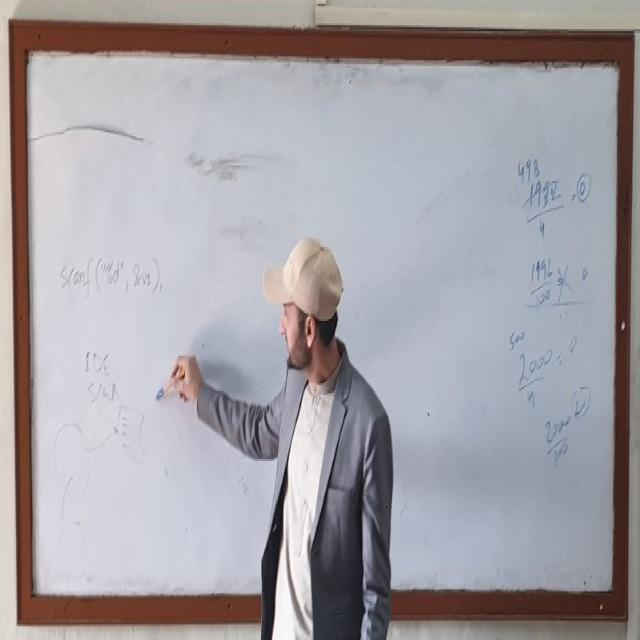Instructor: (258, 200, 395, 640)
White-board: (19, 28, 627, 607)
